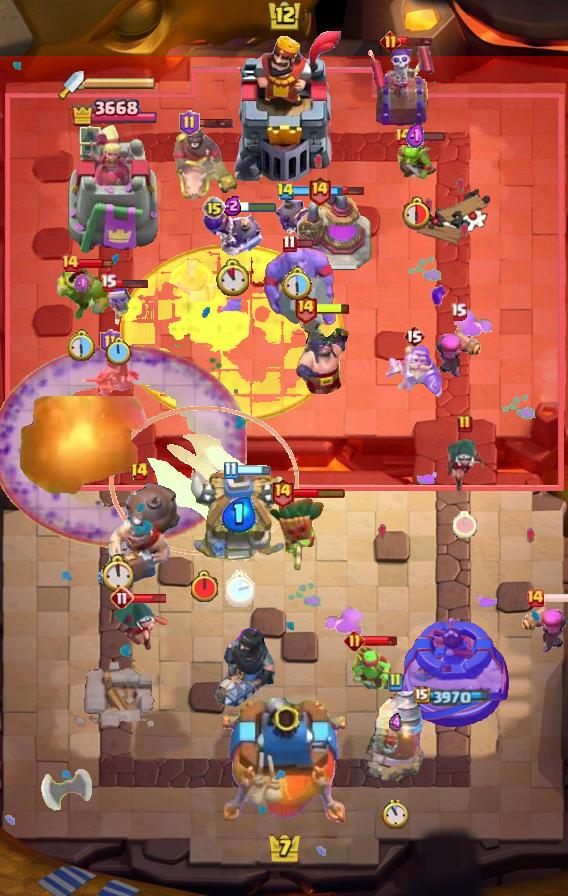archer-queen: (260, 243, 342, 331)
bar: (67, 122, 161, 256)
electro-spirit: (222, 496, 257, 533), (406, 122, 425, 151), (223, 196, 242, 217), (73, 273, 91, 294), (390, 713, 402, 733)
elixir: (216, 259, 249, 297), (104, 554, 137, 592), (223, 569, 255, 607), (282, 266, 314, 301), (399, 195, 431, 229), (189, 570, 219, 604), (67, 330, 97, 363), (105, 337, 131, 367), (383, 799, 409, 829), (453, 510, 477, 537)
emote: (224, 202, 277, 215), (293, 487, 346, 499), (292, 185, 344, 197), (315, 301, 351, 315), (198, 117, 235, 129), (398, 35, 434, 47), (410, 130, 446, 142), (78, 257, 114, 269), (362, 635, 398, 647), (114, 277, 149, 289), (329, 185, 365, 196), (235, 465, 271, 476), (133, 593, 168, 604), (544, 592, 568, 604), (294, 238, 313, 249)
firecracker-evolution: (386, 344, 442, 400)
flying-machine: (52, 262, 112, 320)
freeze: (169, 125, 241, 203)
giant-snowball: (348, 645, 392, 689)
goblin: (103, 281, 133, 327)
goblin-ball: (201, 205, 263, 257), (275, 194, 321, 252)
goblin-barrel: (267, 495, 327, 571)
goblin-giant: (167, 259, 217, 301)
ice-wizard: (109, 405, 299, 554)
inferno-dragon: (213, 627, 277, 710)
king-tower: (223, 31, 345, 181), (223, 698, 345, 826)
king-tower-bar: (84, 77, 156, 91)
magic-archer: (365, 690, 425, 782)
monk: (293, 309, 351, 395)
pekka: (294, 190, 372, 272)
phoenix-egg: (120, 245, 344, 423)
prince: (188, 470, 290, 566)
queen-tower: (395, 614, 514, 730)
rocket: (1, 344, 248, 548)
royal-giant: (41, 769, 93, 829)
selected: (71, 96, 157, 130), (414, 686, 492, 706)
skeleton-dragon: (79, 350, 141, 402)
skeleton-king-bar: (368, 42, 436, 128)
tesla: (111, 600, 171, 652), (443, 439, 487, 495)
text: (307, 175, 332, 206), (270, 476, 295, 507), (293, 293, 318, 323), (202, 196, 226, 220), (110, 586, 134, 610), (179, 110, 201, 136), (99, 329, 121, 355), (403, 324, 425, 348), (380, 31, 401, 53), (343, 630, 364, 651), (393, 126, 413, 146), (60, 253, 80, 273), (130, 462, 150, 482), (525, 588, 545, 608), (276, 183, 296, 202), (449, 302, 467, 321), (99, 273, 117, 291), (457, 414, 473, 434), (387, 672, 403, 692), (282, 234, 297, 253), (223, 461, 238, 480)
tombstone: (521, 600, 568, 656), (435, 325, 481, 381)
valkyrie: (6, 396, 162, 504)
wizard: (95, 481, 183, 589)
zap: (393, 139, 437, 181)
